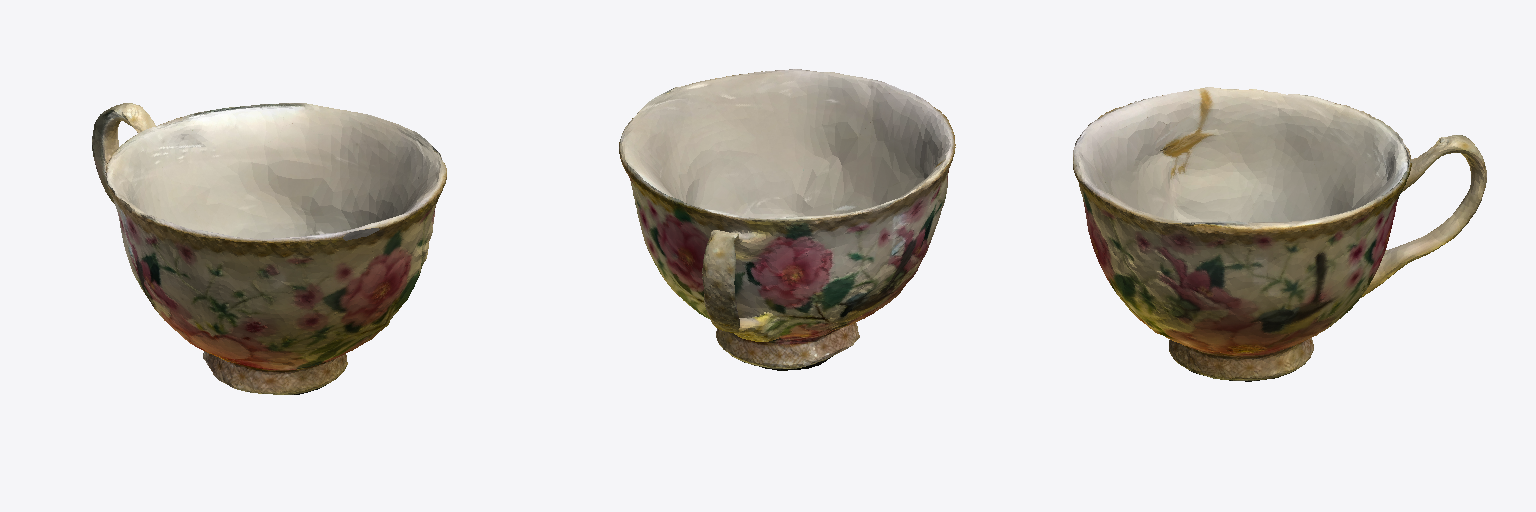
3 renders of one model, left to right at view 1: azimuth 30°, elevation 25°; view 2: azimuth 150°, elevation 25°; view 3: azimuth 270°, elevation 25°, orthographic.
Parts seen in each view (by area): view 1: 21_6_2024; view 2: 21_6_2024; view 3: 21_6_2024.
Part boxes in pixels (left/top/right/bottom): 21_6_2024: left=92, top=103, right=446, bottom=394; 21_6_2024: left=619, top=69, right=955, bottom=370; 21_6_2024: left=1073, top=87, right=1486, bottom=381.
Size of the model in its own units: 0.0934 by 0.0637 by 0.115.
1 materials, 1 textured.